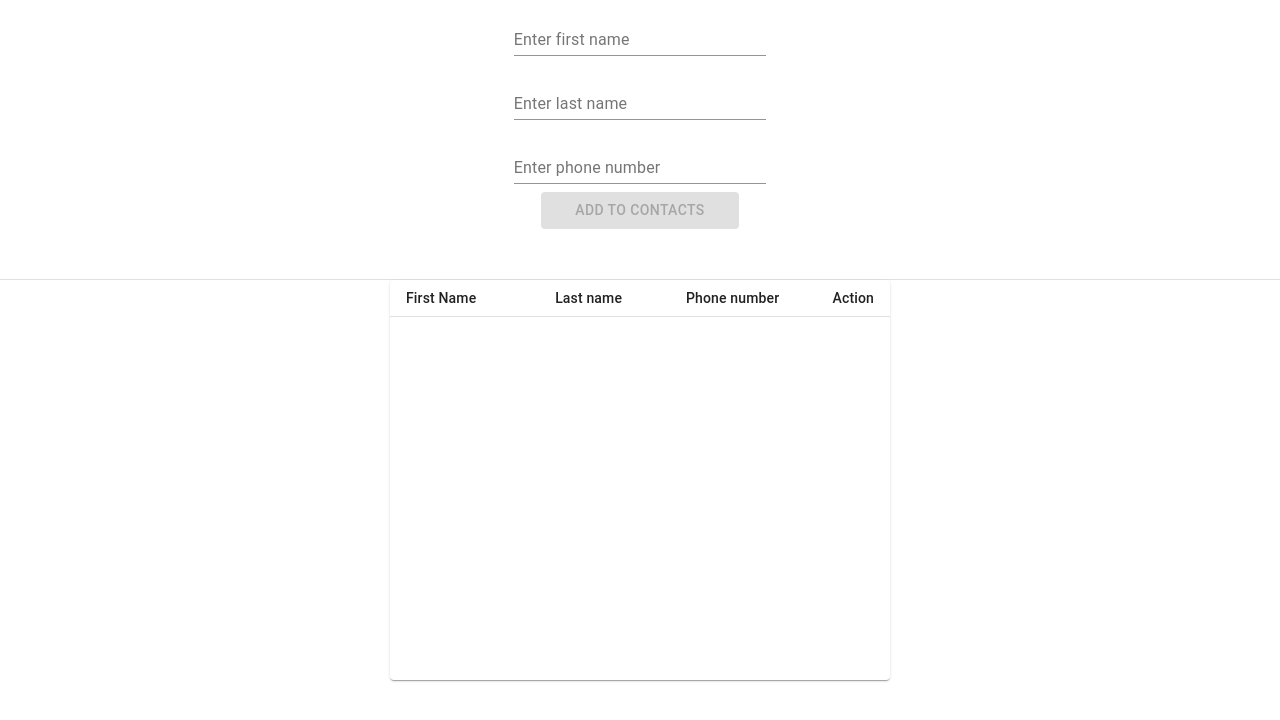
Test: <App/> › should create a contact
Type "user1" into the field with test id "first-name-label" at [640, 40], box [514, 24, 766, 56]
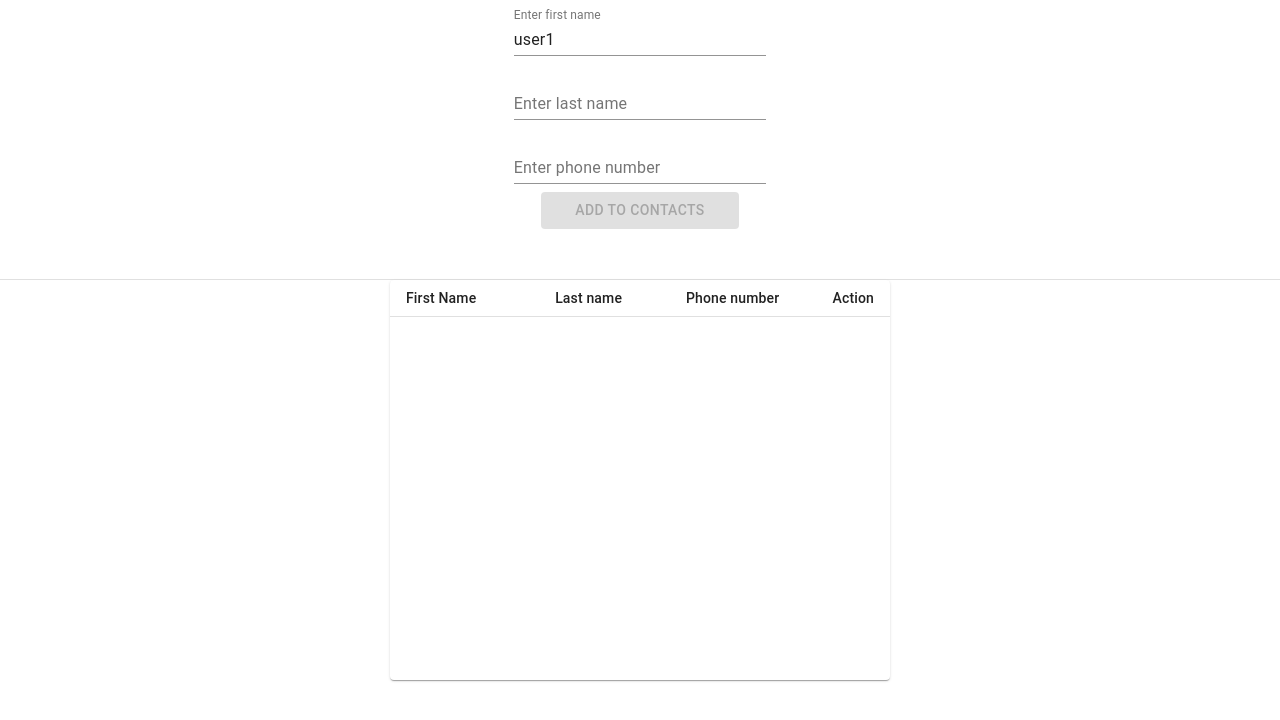
Type "4789652" into the number field with test id "phone-number-label" at [640, 168], box [514, 152, 766, 184]
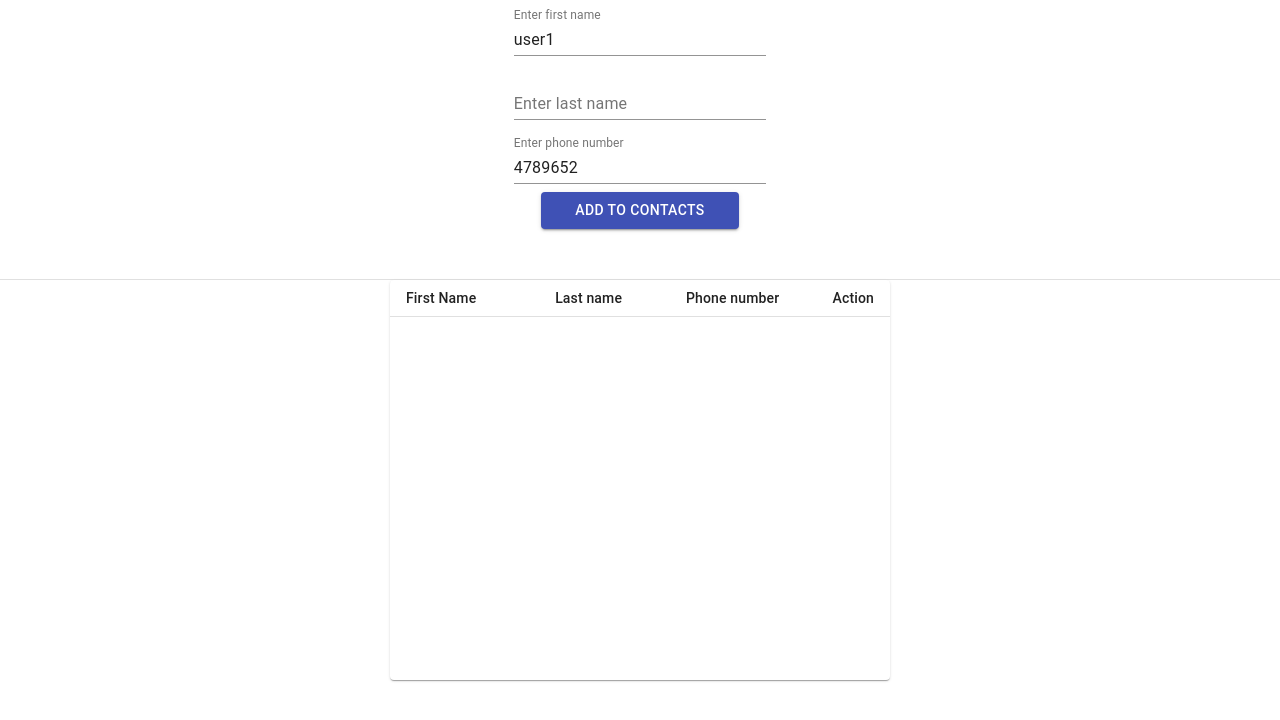
Click the button "Add to contacts" at [640, 210], box [540, 192, 739, 228]
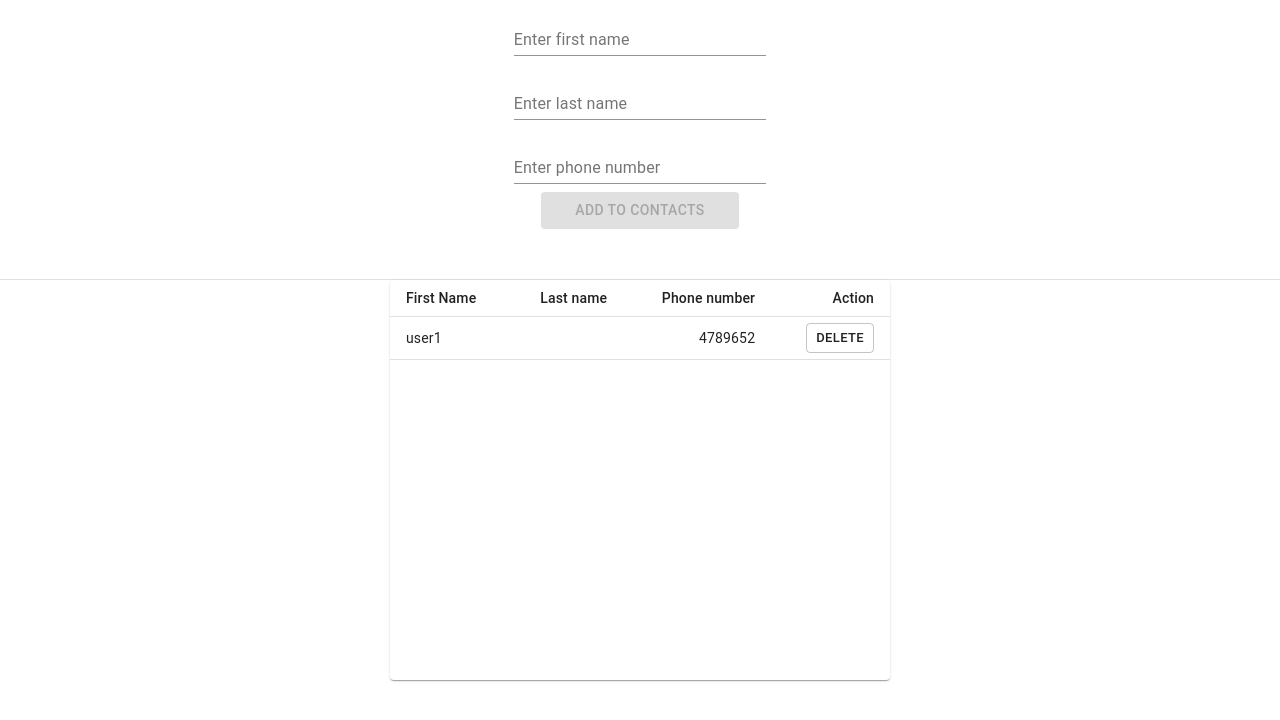
Now the text "user1" is shown, box [390, 316, 512, 360]
Now the text "4789652" is shown, box [631, 316, 779, 360]
